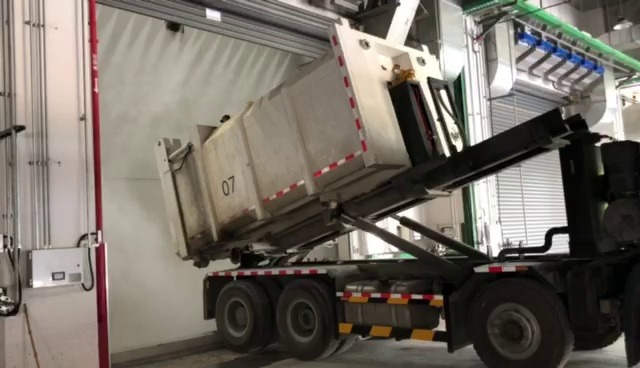truck: (146, 12, 640, 368)
